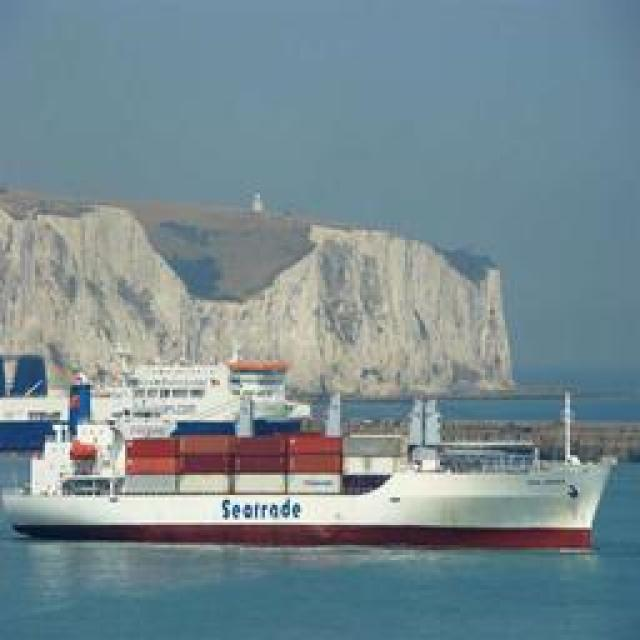ship2: (3, 364, 618, 549)
